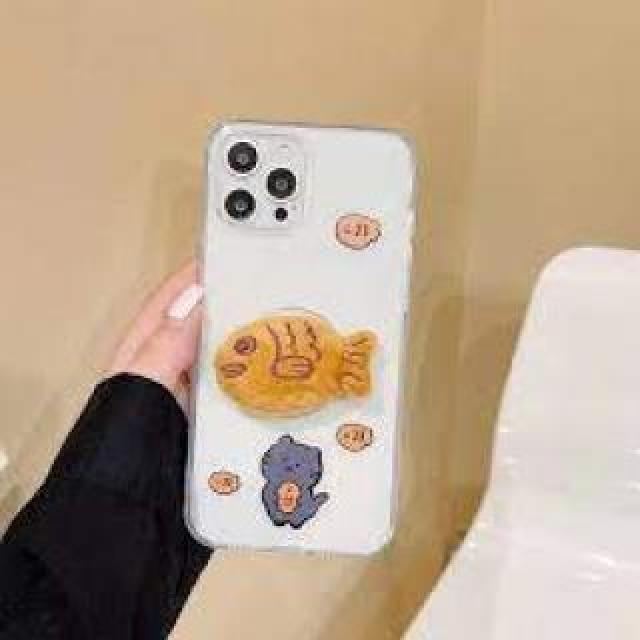smart phone: (187, 85, 420, 567)
